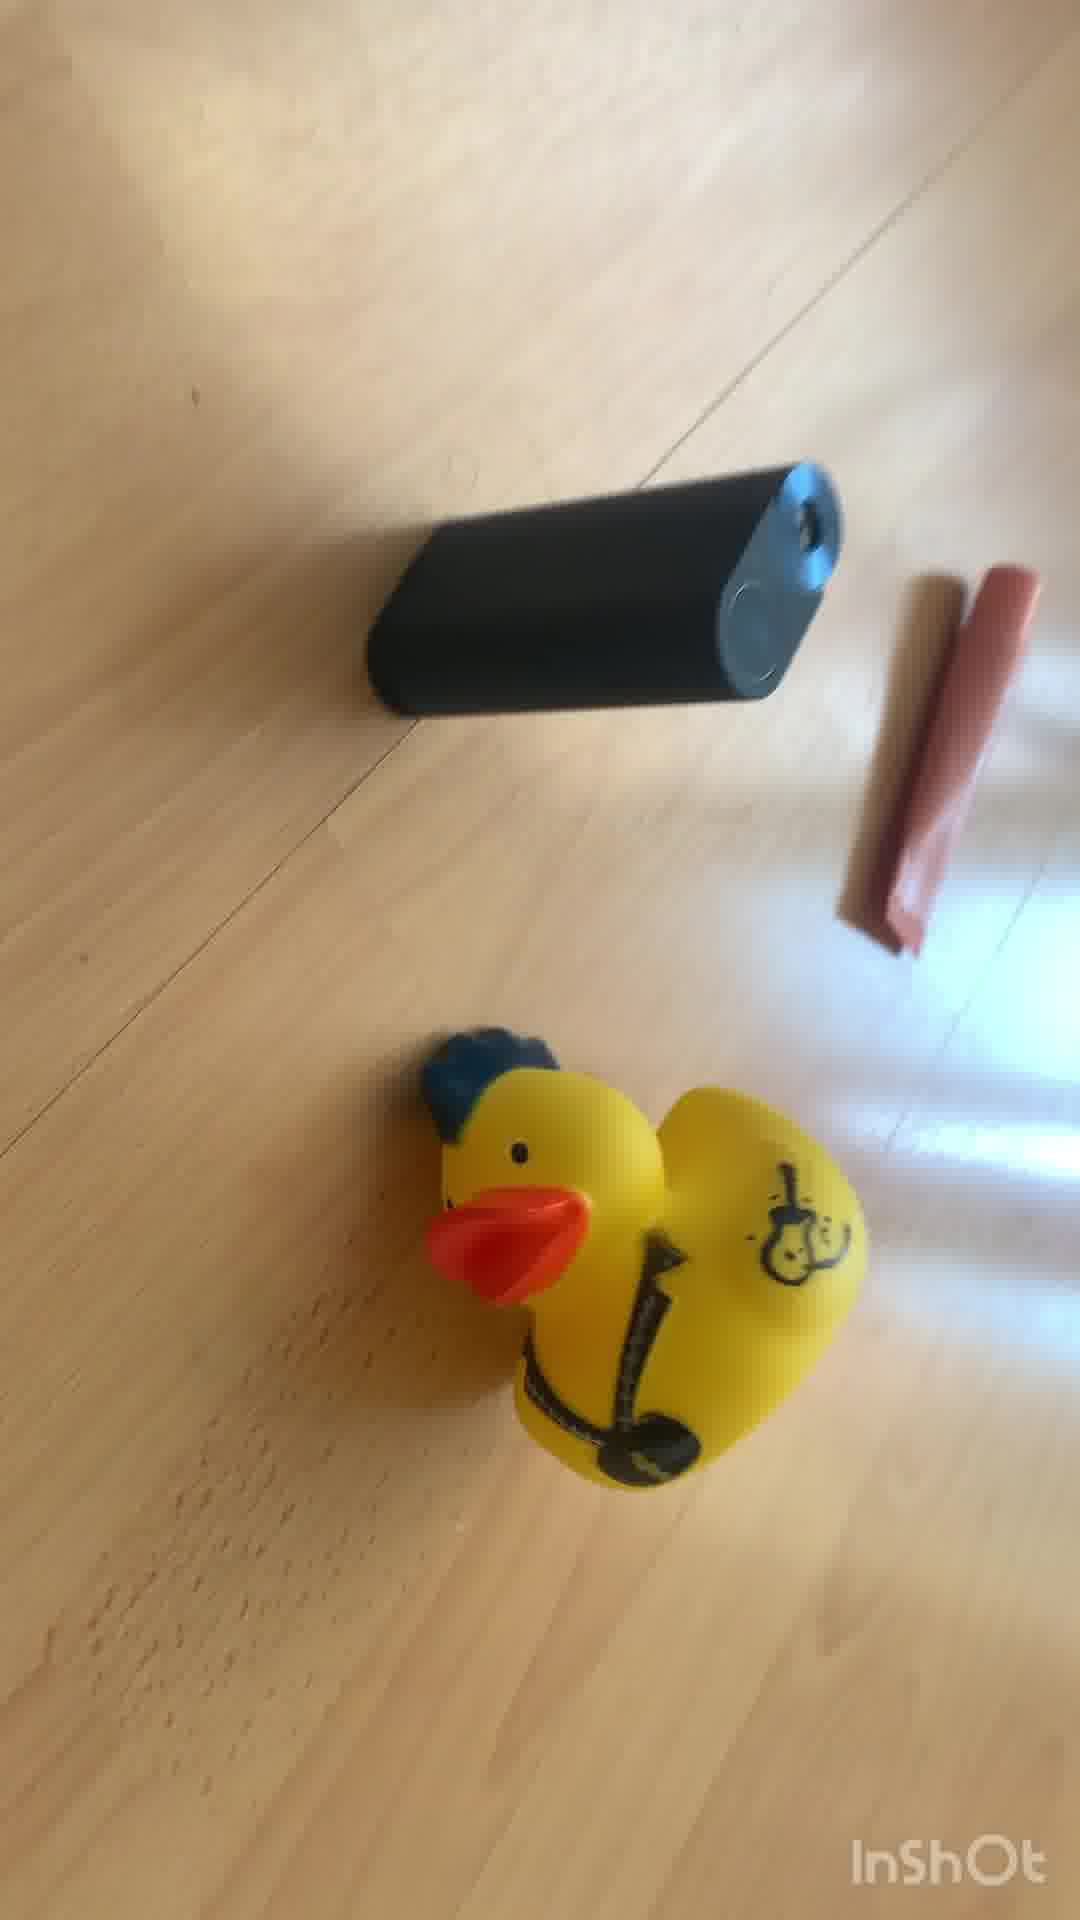duck: (407, 1023, 866, 1482)
glo: (364, 462, 847, 723)
lip balm: (872, 556, 1046, 969)
